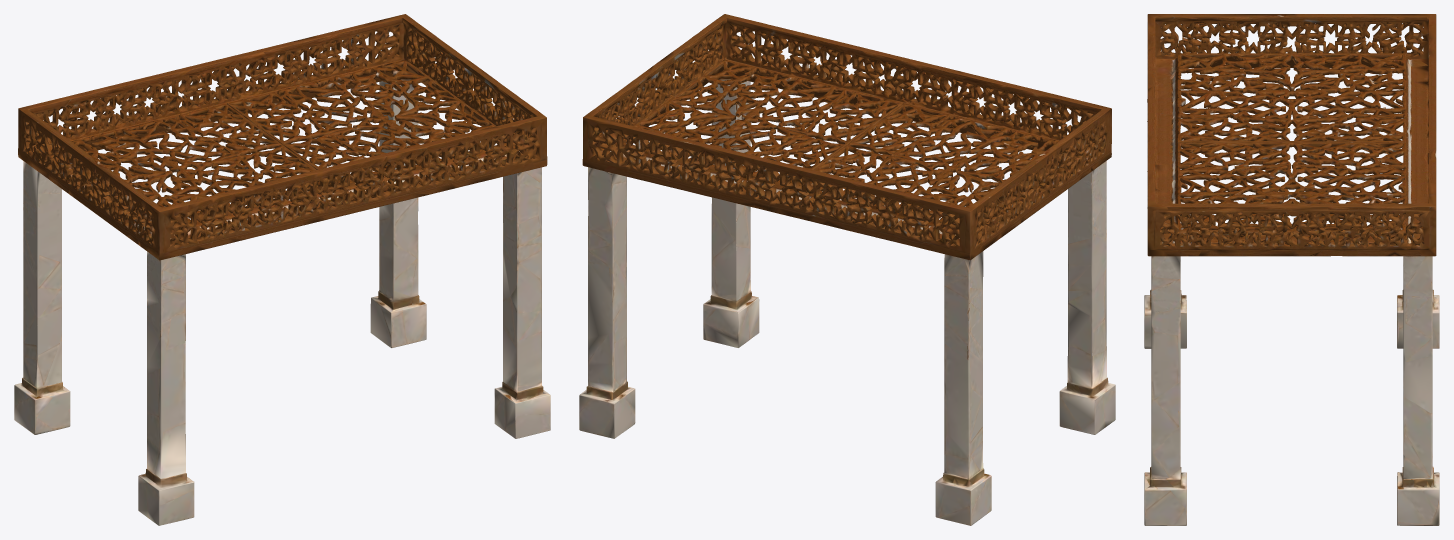
Rendered from pergola.glb.
3 views of the same model, side by side, from view 1: azimuth 30°, elevation 25°; view 2: azimuth 150°, elevation 25°; view 3: azimuth 270°, elevation 25° (orthographic).
Bounding box in the file's own units: 4.46 × 3.4 × 2.86.
Materials: 1 (1 with a texture image).
